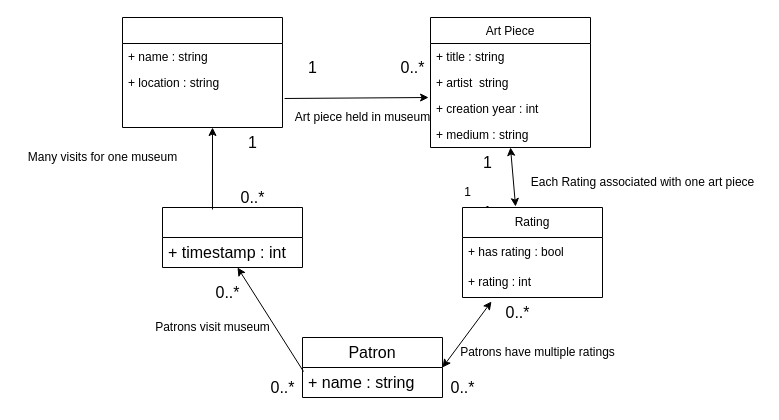
Image size: 779x420. Some labels were removed from this diagram. The shapes that lost their labels are listed below. From the top down, each one's box as (x1, y1, x2, y2) in pixels, then its label:
(122, 16, 282, 128): Museum
(162, 206, 302, 268): Visit
